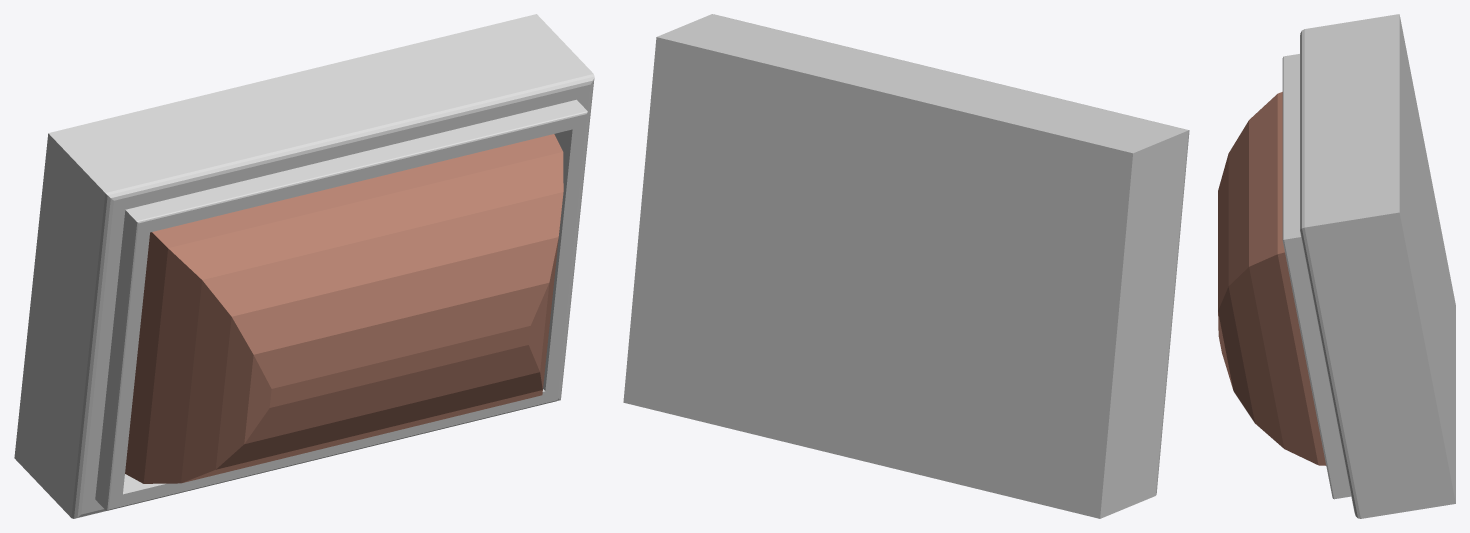
File: diode.fbx
The picture shows the model from 3 angles, left to right: view 1: azimuth 30°, elevation 25°; view 2: azimuth 150°, elevation 25°; view 3: azimuth 270°, elevation 25°; orthographic projection. The views are drawn at different scales.
Visible parts, largest first — view 1: Diode_BK; view 2: Diode_BK; view 3: Diode_BK.
Boxes of the visible parts, <box> form: Diode_BK: <box>14,14,594,518</box>; Diode_BK: <box>623,14,1189,518</box>; Diode_BK: <box>1218,14,1455,518</box>.
Size of the model in its own units: 25.74 by 18.53 by 13.04.
